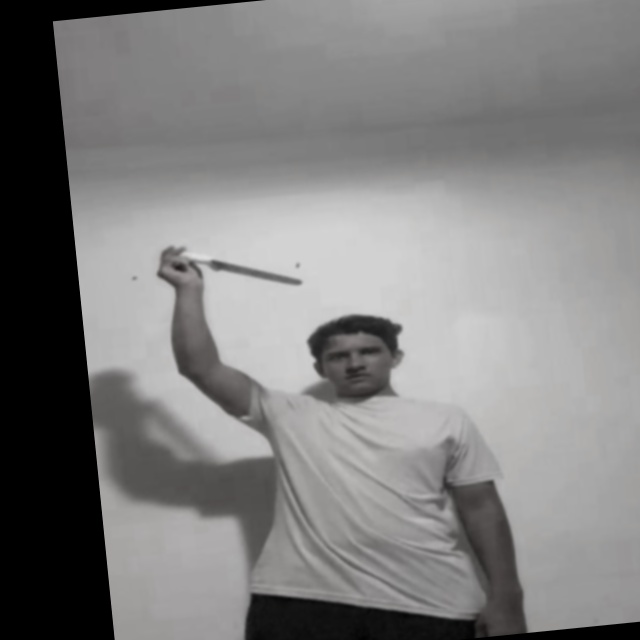Sharp-Object: (213, 253, 302, 291)
